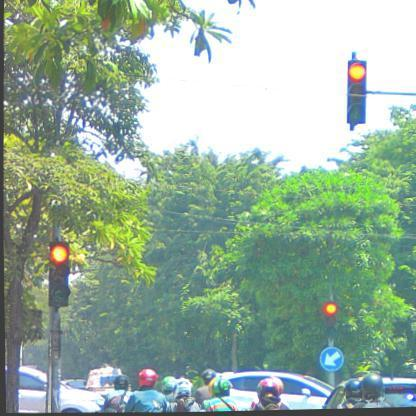red: (46, 243, 70, 307), (344, 62, 366, 127)
